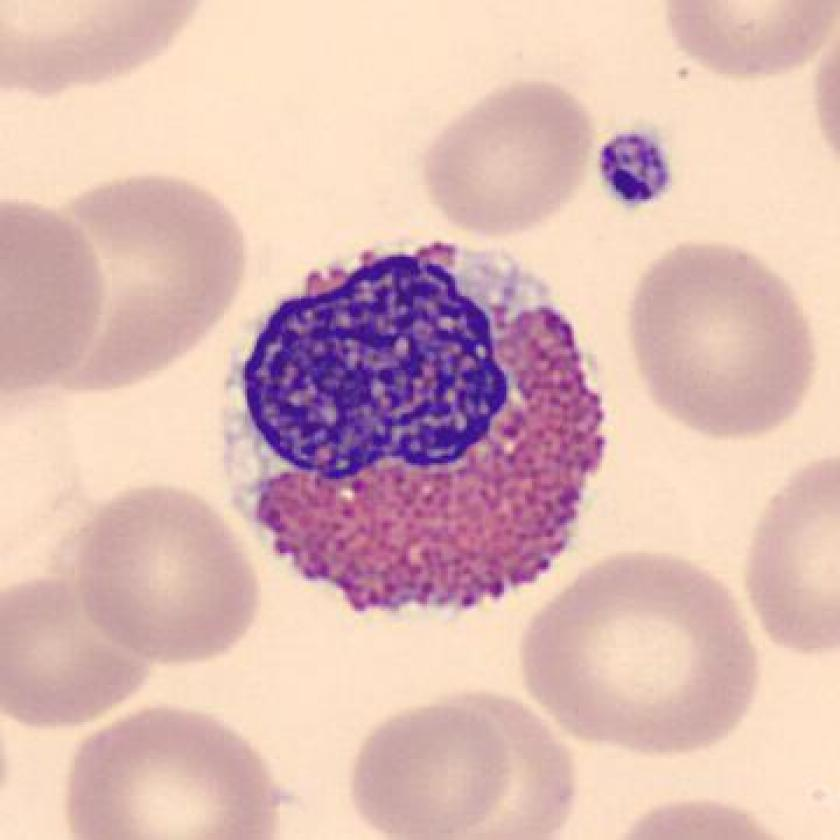eosinophil: (209, 228, 617, 628)
